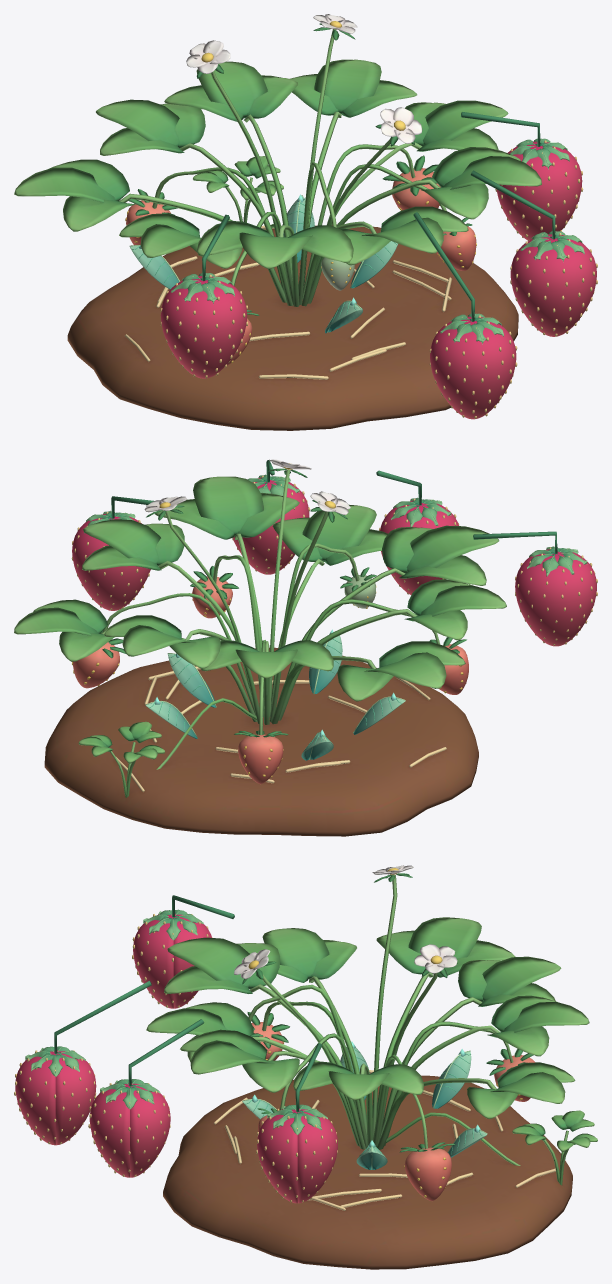
The model's file is enchanted-strawberry.glb.
3 views of the same model, one above another, from view 1: azimuth 30°, elevation 25°; view 2: azimuth 150°, elevation 25°; view 3: azimuth 270°, elevation 25° (orthographic). The views are drawn at different scales.
Parts seen in each view (by area): view 1: strawberry-plant_body, enchanted-strawberry-sculpted-details; view 2: strawberry-plant_body, enchanted-strawberry-sculpted-details; view 3: strawberry-plant_body, enchanted-strawberry-sculpted-details.
Part boxes in pixels (x1=…): strawberry-plant_body: x1=14, y1=14, x2=541, y2=430; enchanted-strawberry-sculpted-details: x1=129, y1=112, x2=597, y2=419; strawberry-plant_body: x1=14, y1=459, x2=506, y2=836; enchanted-strawberry-sculpted-details: x1=71, y1=460, x2=597, y2=760; strawberry-plant_body: x1=146, y1=865, x2=597, y2=1269; enchanted-strawberry-sculpted-details: x1=14, y1=895, x2=487, y2=1203.
Bounding box in the file's own units: 2.35 × 1.41 × 2.66.
Materials: 2 (1 with a texture image).
